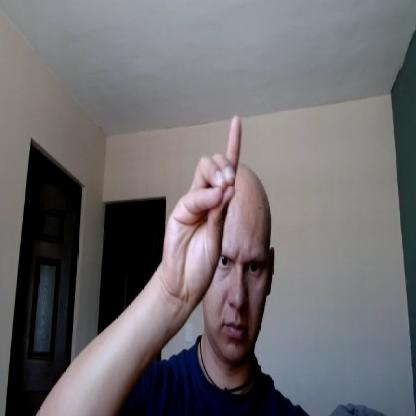D: (166, 115, 241, 297)
